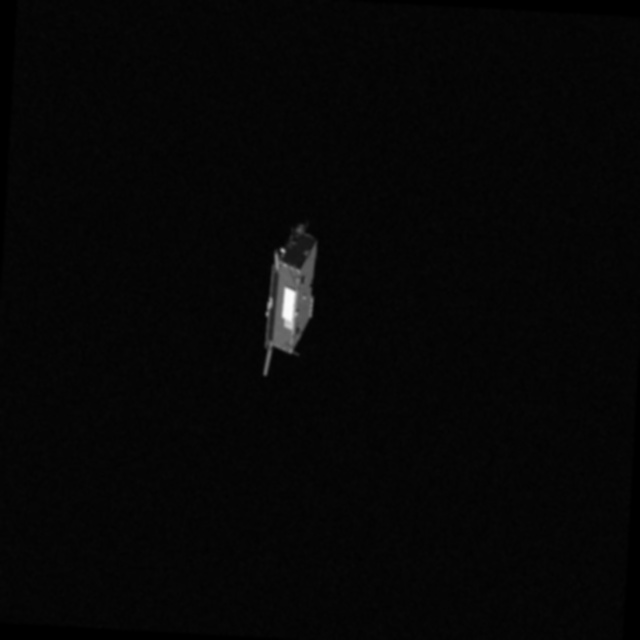medium_debris: (253, 197, 337, 384)
